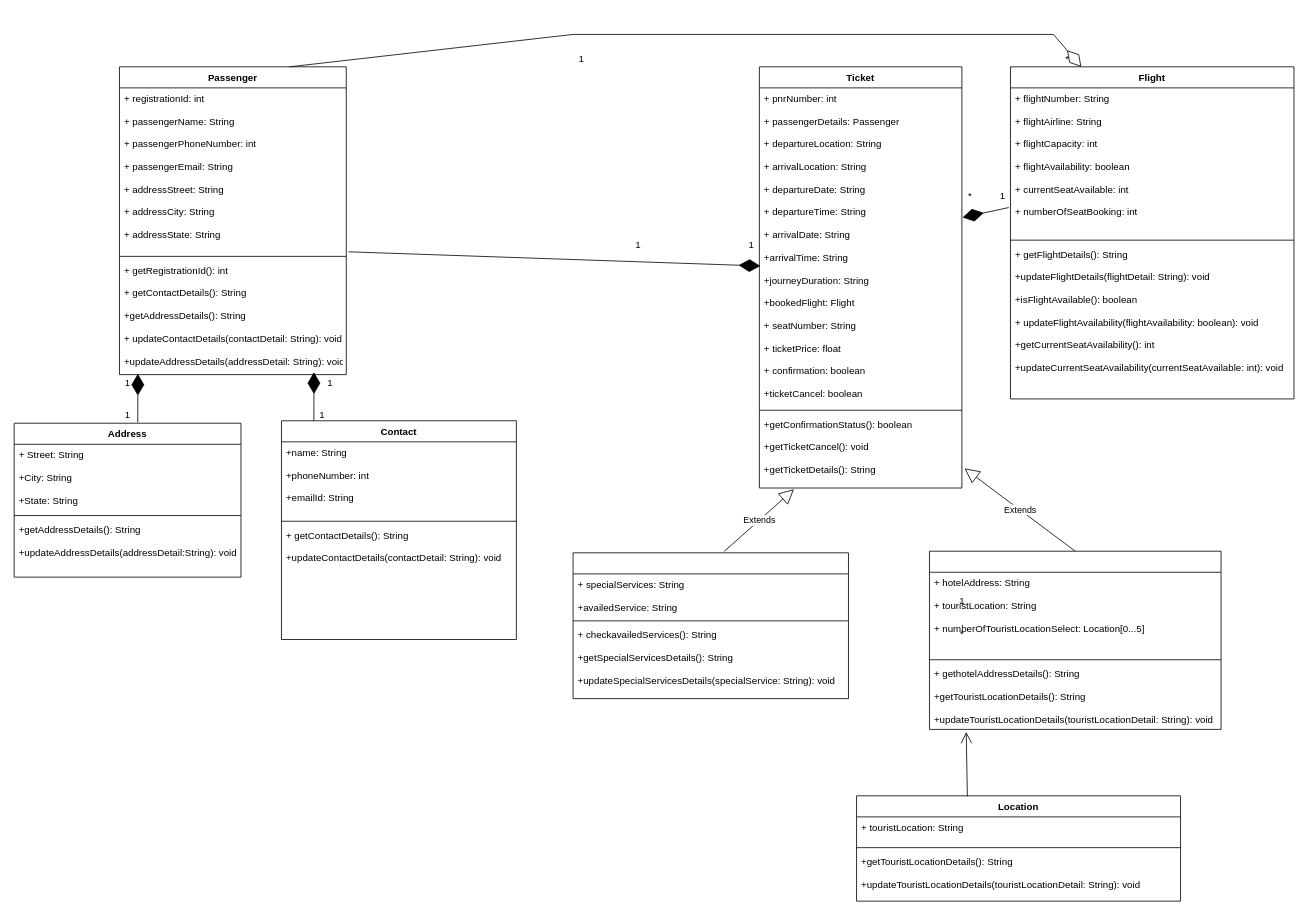
This 1308x918 diagram has some shape labels left out. The shapes that lost their labels are listed below. From the top down, each one's box as (x1, y1, x2, y2) in pixels, then its label:
(572, 552, 848, 699): RegularTicket
(929, 550, 1221, 729): TouristTicket
